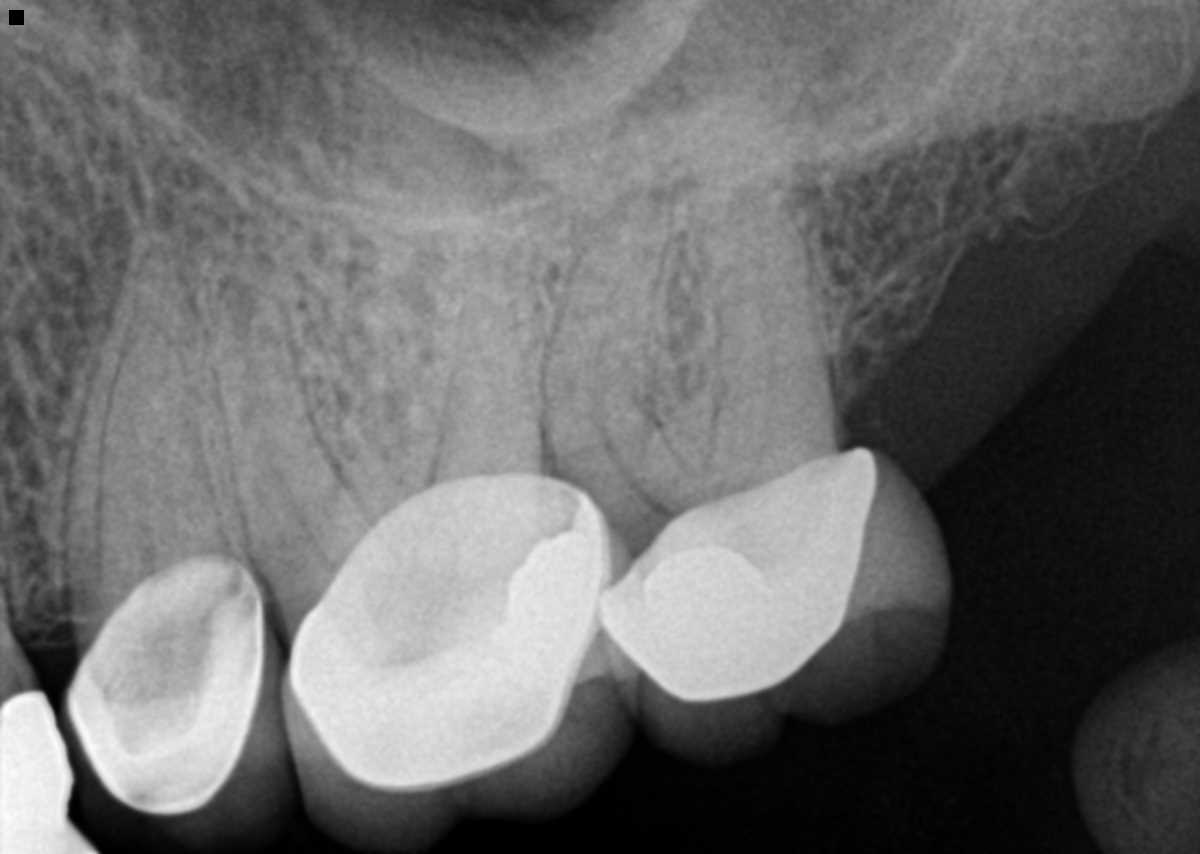Apical Lesion: (585, 168, 678, 230)
Distal Canal: (755, 252, 774, 444)
Distal Root: (711, 176, 833, 445), (432, 257, 544, 479)
Main Canal: (131, 438, 161, 587)
Main Root: (65, 234, 246, 624)
Mesial Canal: (254, 373, 335, 570), (592, 307, 659, 514)
Mesial Root: (210, 290, 375, 613), (538, 191, 683, 548)
Palatal Root: (320, 24, 551, 524), (638, 10, 836, 476)
